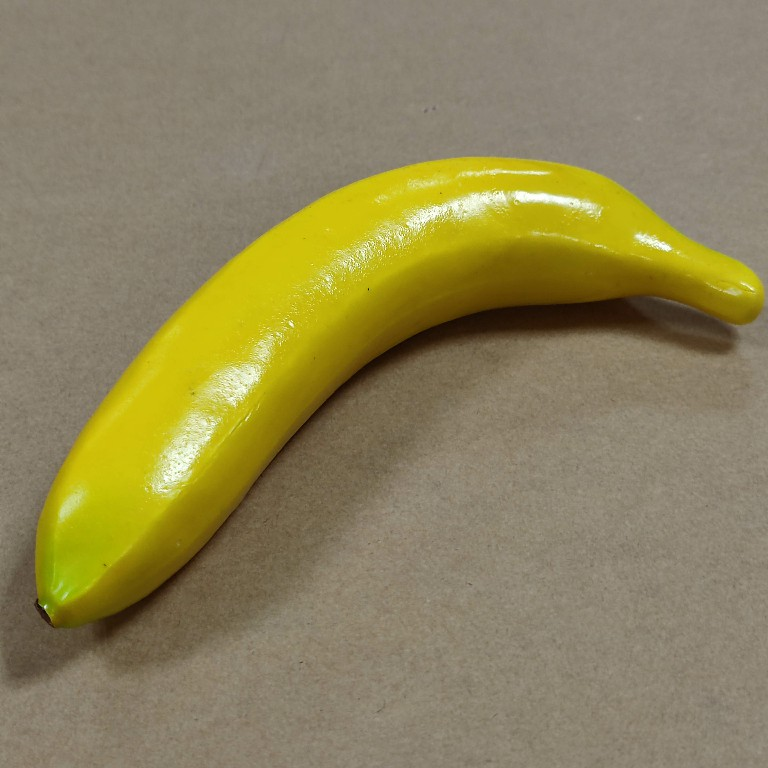fruit_banana: (29, 148, 768, 633)
